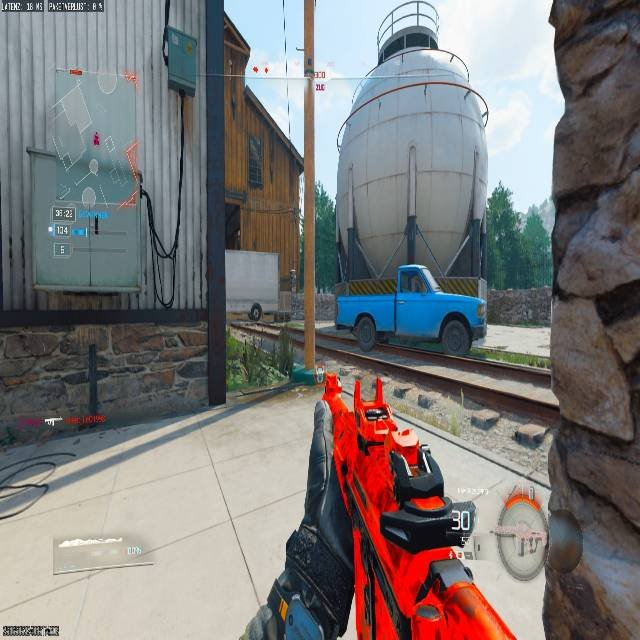head: (372, 0, 443, 61)
player: (335, 0, 492, 181)
